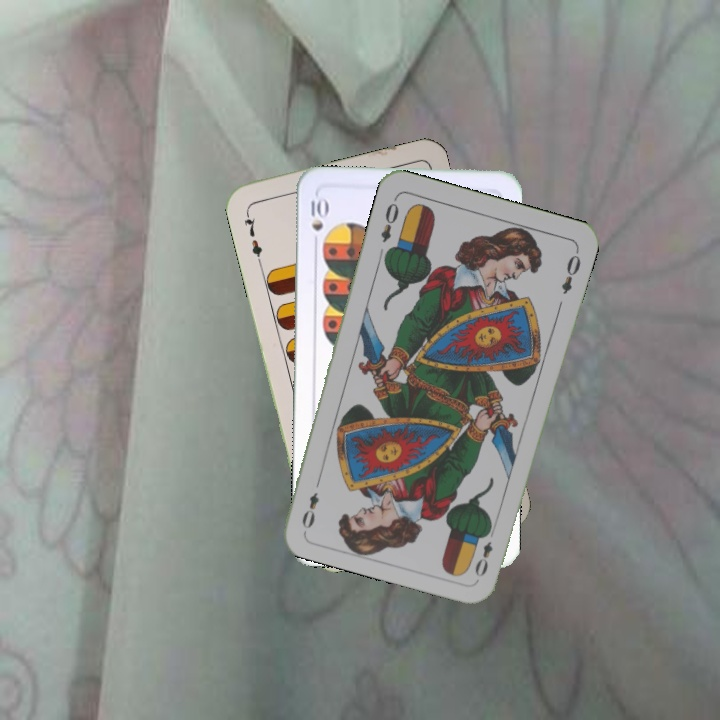E7: (240, 207, 265, 266)
EO: (471, 523, 498, 580), (376, 194, 402, 245)
S10: (307, 191, 328, 233)
